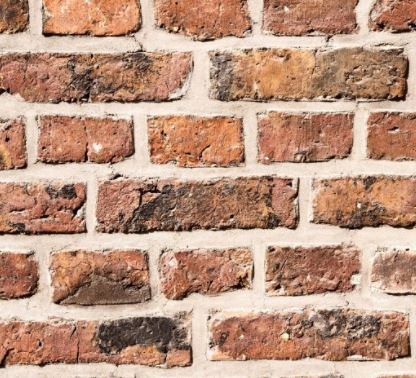brick: (207, 309, 412, 361), (99, 177, 299, 229), (1, 313, 193, 367), (211, 46, 407, 98), (1, 54, 191, 98), (47, 251, 154, 308), (311, 176, 415, 229), (256, 111, 356, 165), (147, 114, 247, 165), (37, 114, 135, 165), (1, 177, 88, 234), (265, 243, 358, 294), (162, 245, 255, 295), (40, 1, 136, 35), (159, 1, 249, 33), (266, 1, 354, 33), (368, 109, 416, 160), (370, 248, 416, 297), (1, 249, 37, 296), (368, 1, 415, 29), (1, 120, 26, 169), (1, 1, 33, 33)
